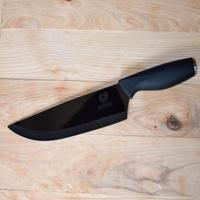knife: (4, 51, 197, 144)
